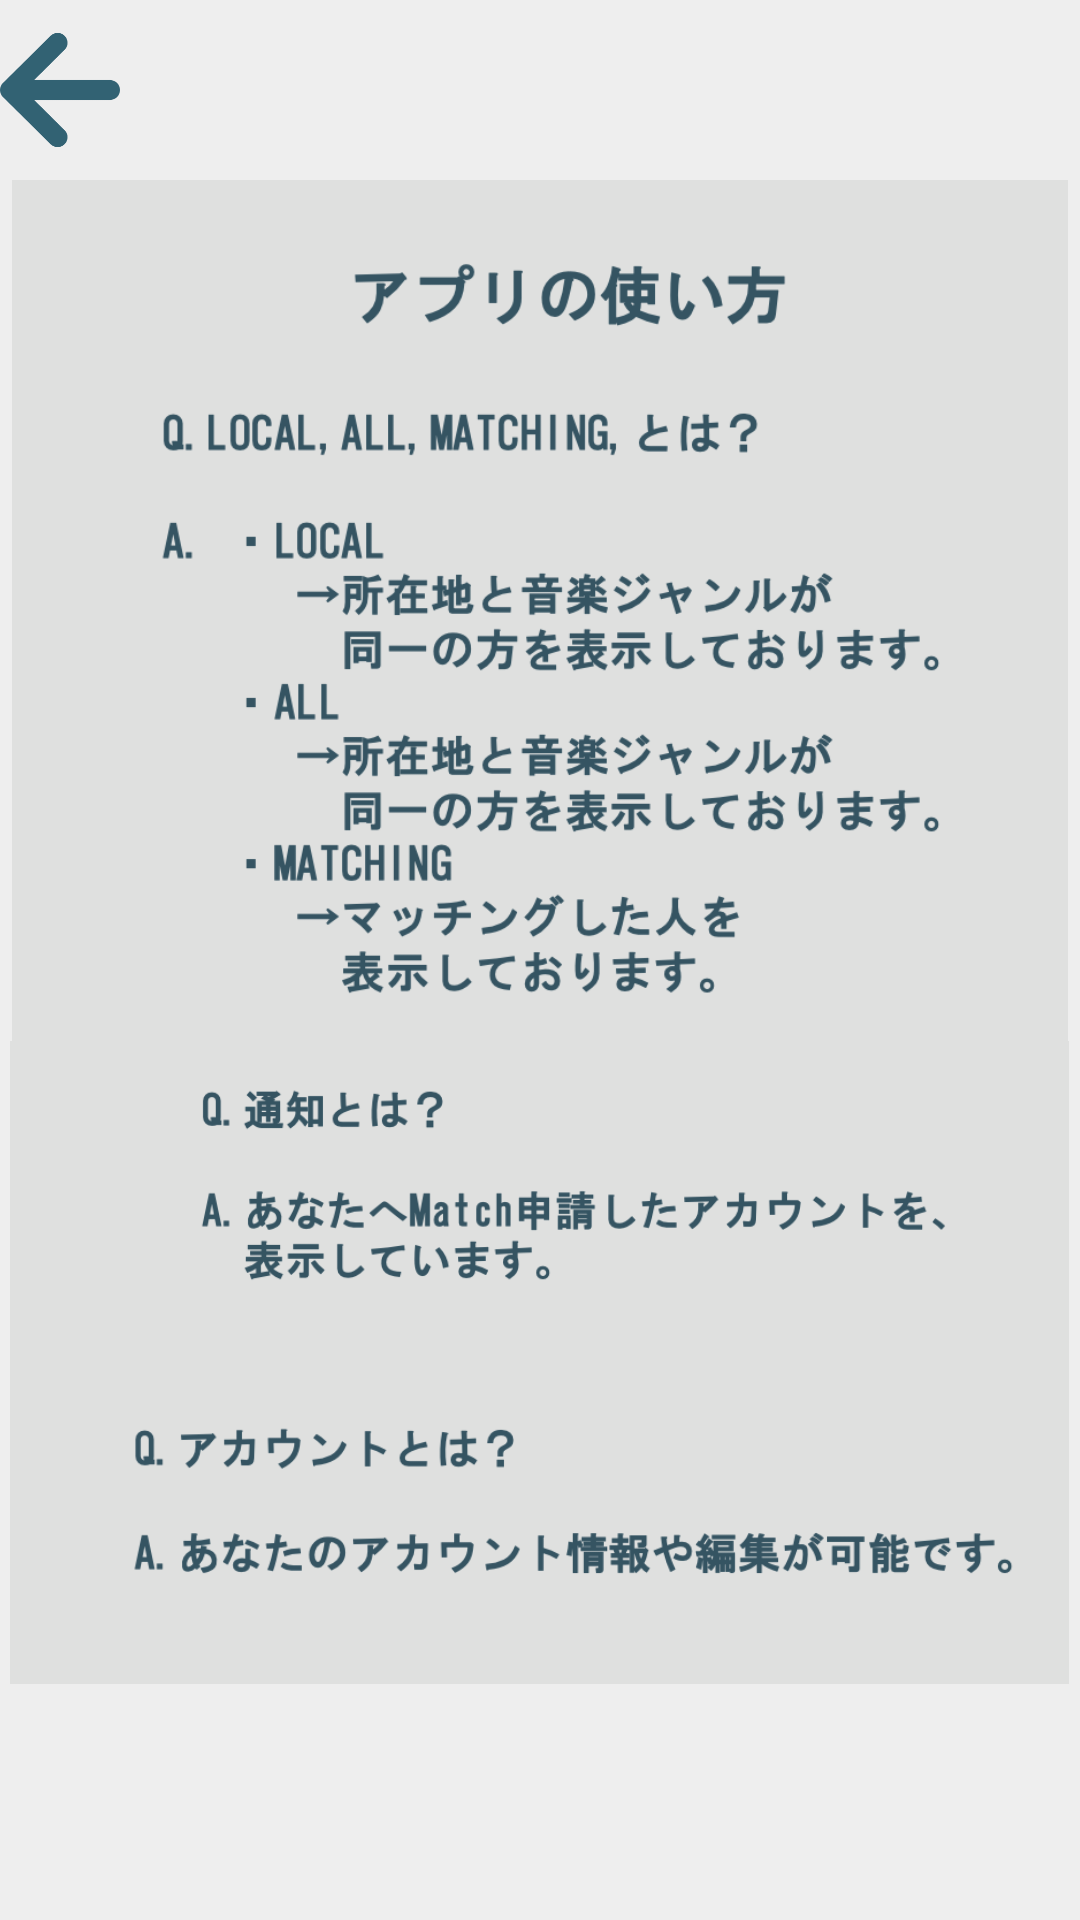

Named icons in this screenshot (1080w x 1920h) and their bounding boxes, (x1, y1, x2, y2):
back: (0, 33, 120, 147)
